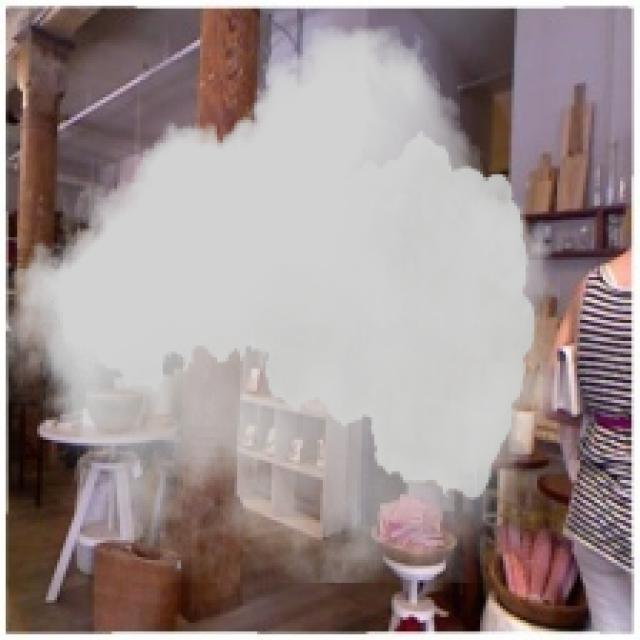smoke: (9, 26, 560, 583)
